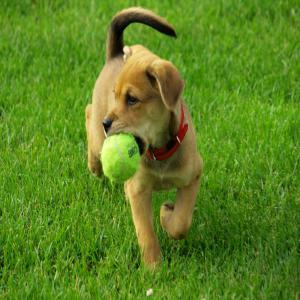TennisBall: (99, 134, 141, 188)
